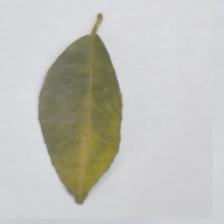greening: (64, 124, 126, 188)
